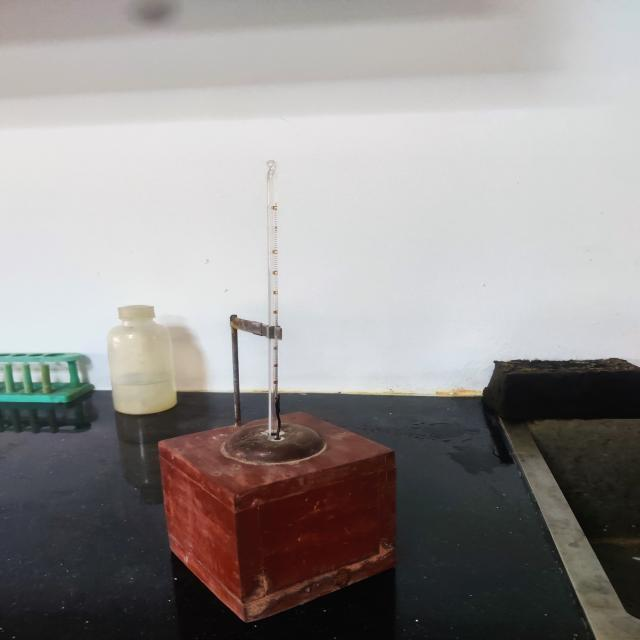Calorimeter: (130, 137, 418, 630)
